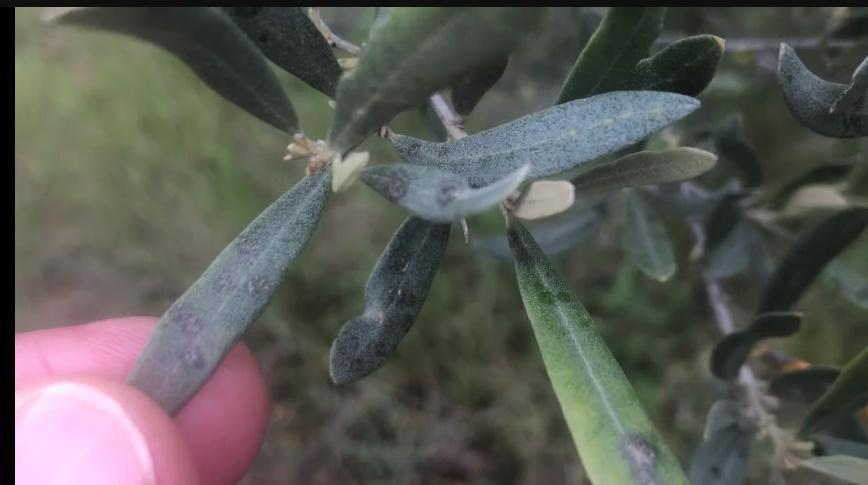OlivePeacockSpot: (508, 226, 690, 485), (140, 168, 333, 391), (326, 224, 438, 388), (367, 168, 526, 226), (232, 8, 338, 90)
